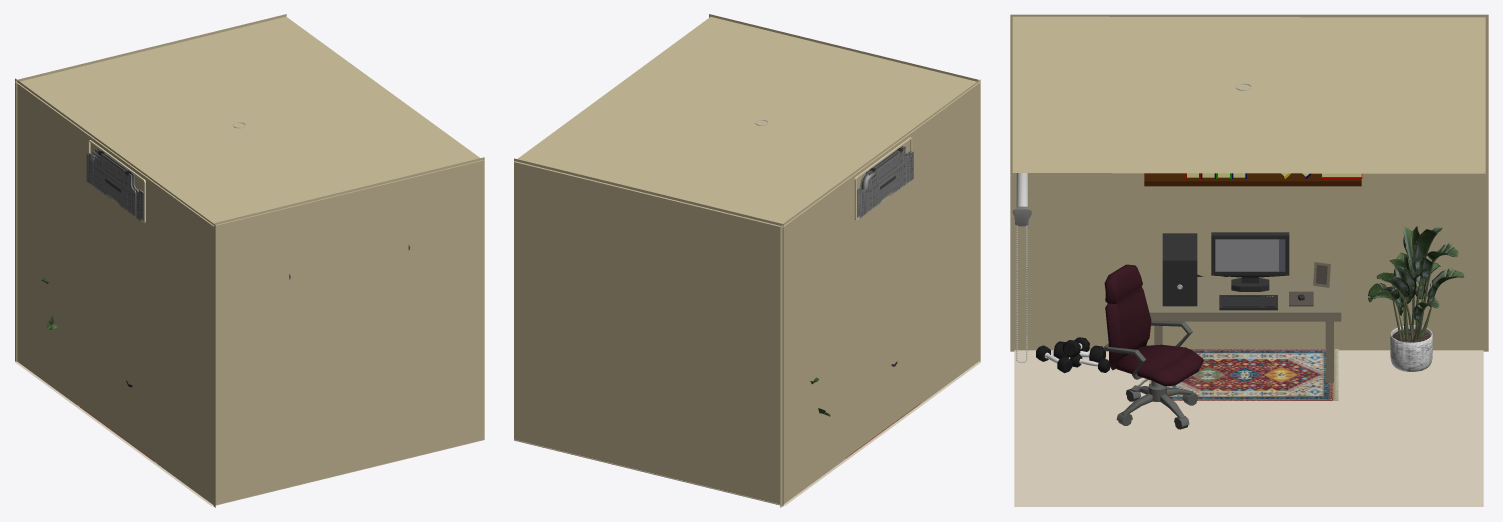
The model's file is desk_pc_room.optimized.glb.
The picture shows the model from 3 angles, left to right: view 1: azimuth 30°, elevation 25°; view 2: azimuth 150°, elevation 25°; view 3: azimuth 270°, elevation 25°; orthographic projection. The views are drawn at different scales.
Parts seen in each view (by area): view 1: Room_Right_Wall.001, Room_Right_Wall.002, Room_Right_Wall.003, Object_14, Room_Right_Wall, Plane; view 2: Room_Right_Wall, Room_Right_Wall.002, Room_Right_Wall.003, Object_14, Plane, Room_Right_Wall.001; view 3: Room_Right_Wall.003, Room_Right_Wall.002, Plane, Cube_0, Computer Chair, Object_2.001, G-AUL11_1, Cube_Material.001_0, GymWeights, G-AUL10_0, Object_4.002.
Part boxes in pixels (<box>): Room_Right_Wall.001: <box>214,157,484,505</box>; Room_Right_Wall.002: <box>15,78,215,507</box>; Room_Right_Wall.003: <box>15,16,483,226</box>; Object_14: <box>86,149,140,220</box>; Room_Right_Wall: <box>16,14,286,361</box>; Plane: <box>15,361,386,506</box>; Room_Right_Wall: <box>514,158,783,506</box>; Room_Right_Wall.002: <box>780,79,980,507</box>; Room_Right_Wall.003: <box>513,17,980,227</box>; Object_14: <box>859,146,913,218</box>; Plane: <box>513,361,980,505</box>; Room_Right_Wall.001: <box>709,14,978,81</box>; Room_Right_Wall.003: <box>1012,16,1485,173</box>; Room_Right_Wall.002: <box>1010,14,1488,351</box>; Plane: <box>1014,350,1483,506</box>; Cube_0: <box>1146,232,1341,382</box>; Computer Chair: <box>1104,264,1203,429</box>; Object_2.001: <box>1149,349,1338,400</box>; G-AUL11_1: <box>1368,226,1464,341</box>; Cube_Material.001_0: <box>1144,173,1361,186</box>; GymWeights: <box>1036,337,1110,373</box>; G-AUL10_0: <box>1390,325,1432,371</box>; Object_4.002: <box>1016,173,1027,362</box>.
Size of what is drawn, in the model's own units: 10.59 by 10.31 by 13.18.
31 materials, 24 textured.
